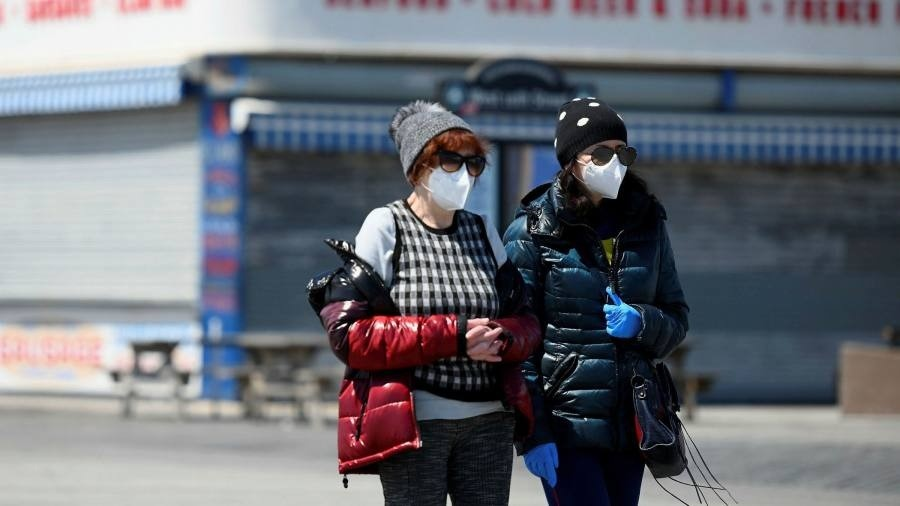face_with_mask: (386, 99, 492, 234), (544, 92, 644, 217)
